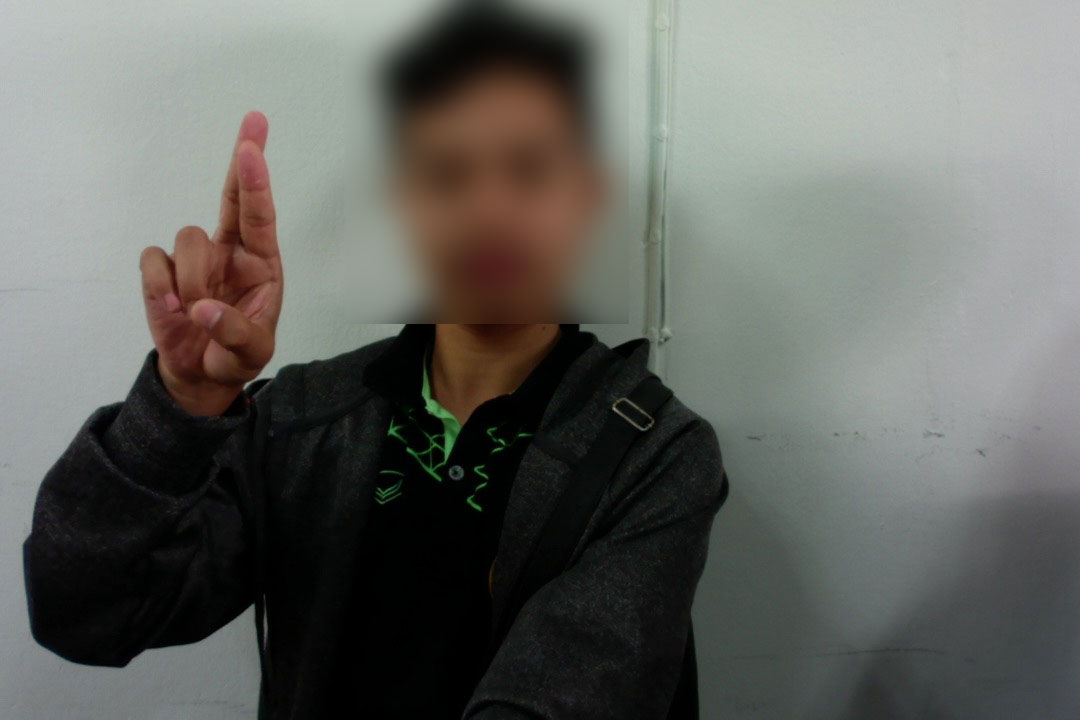rao: (130, 107, 293, 389)
